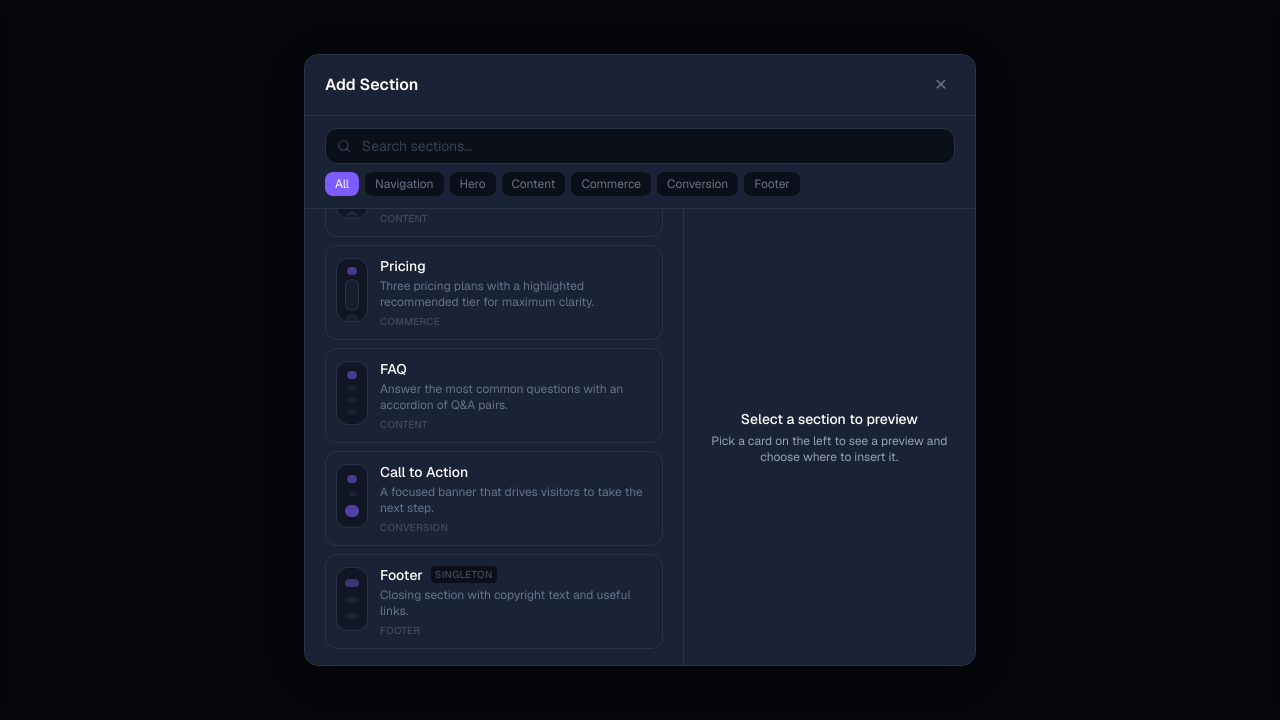
Test: AddSectionDialog failure handling › keeps the dialog open and shows the error when insertion fails
(page scrolled)
Click the button with test id "section-card-cta" at (494, 498), box [325, 450, 663, 546]
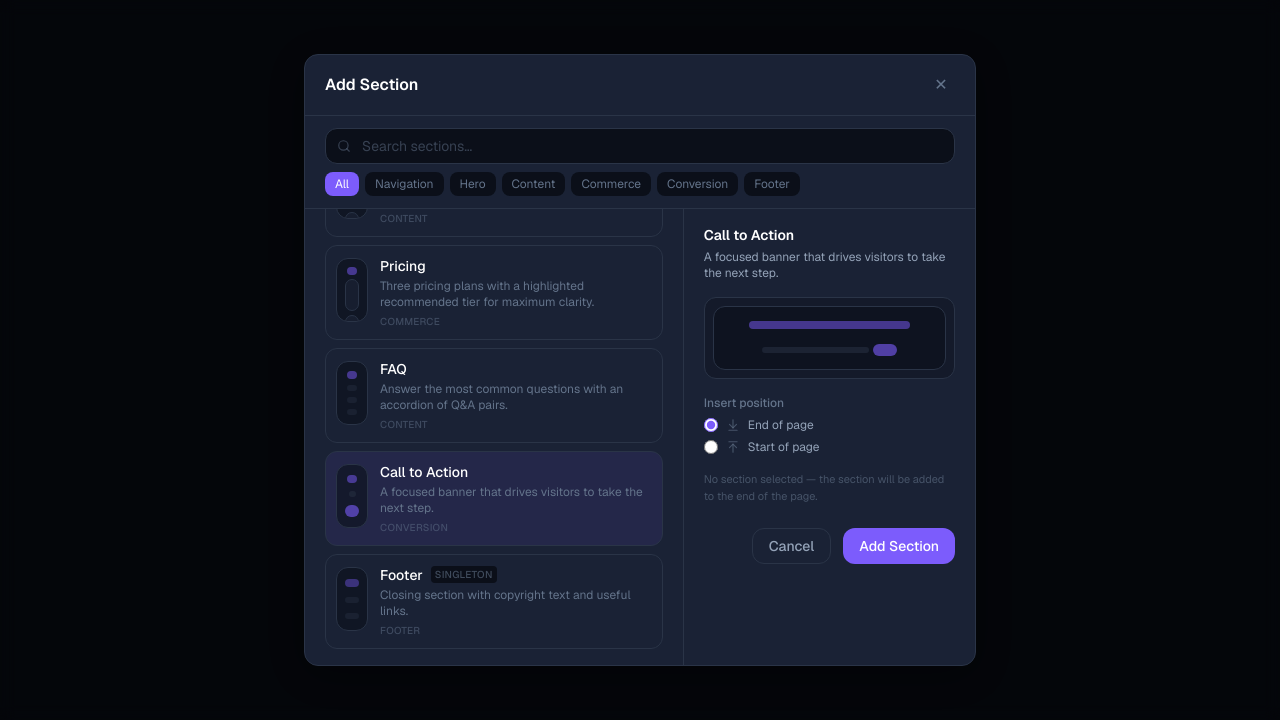
Click the button with test id "confirm-add-section" at (899, 546), box [843, 528, 955, 564]
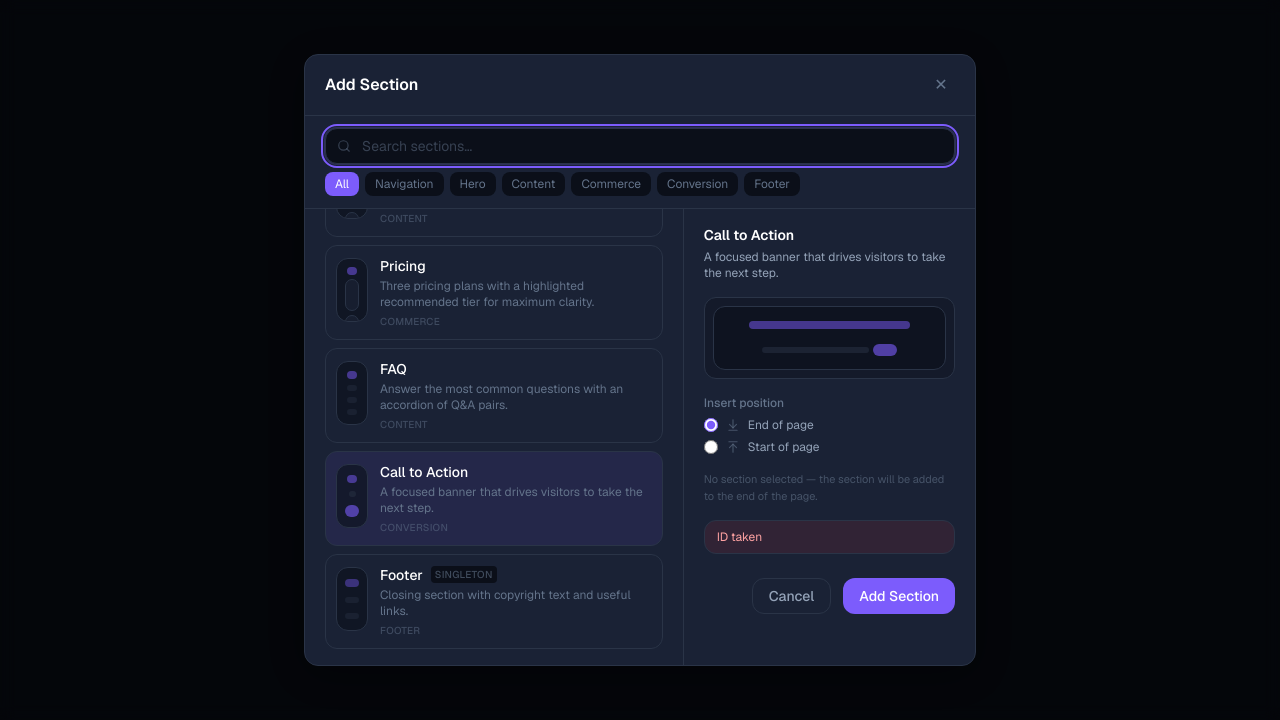
Check: the message "ID taken" is shown, box [704, 520, 955, 554]
